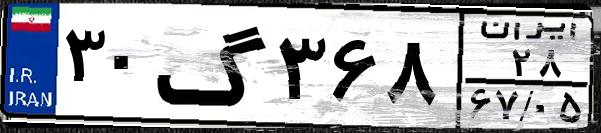0: (110, 28, 156, 98), (535, 70, 560, 125)
2: (508, 27, 537, 80)
3: (270, 28, 330, 110), (57, 26, 110, 100)
5: (560, 70, 590, 125)
6: (330, 28, 385, 110), (470, 70, 495, 125)
7: (495, 70, 520, 125)
8: (385, 28, 445, 110), (537, 27, 568, 80)
گ: (156, 12, 270, 120)
